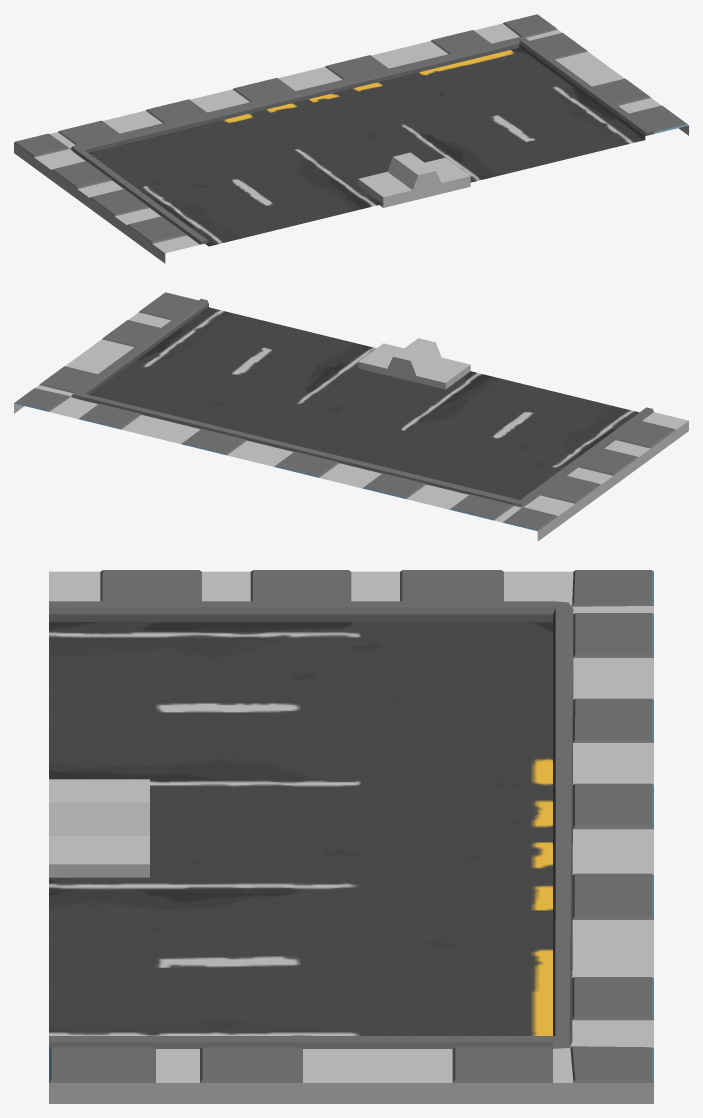
The model's file is Highway_Straight_End.fbx.
3 views of the same model, one above another, from view 1: azimuth 30°, elevation 25°; view 2: azimuth 150°, elevation 25°; view 3: azimuth 270°, elevation 25° (orthographic). The views are drawn at different scales.
Visible parts, largest first — view 1: Highway_Straight_End; view 2: Highway_Straight_End; view 3: Highway_Straight_End.
Boxes of the visible parts, left/top/right/bottom form: Highway_Straight_End: left=14, top=14, right=688, bottom=263; Highway_Straight_End: left=14, top=292, right=688, bottom=541; Highway_Straight_End: left=49, top=570, right=653, bottom=1103.
Bounding box in the file's own units: 2400 × 117 × 1200.
